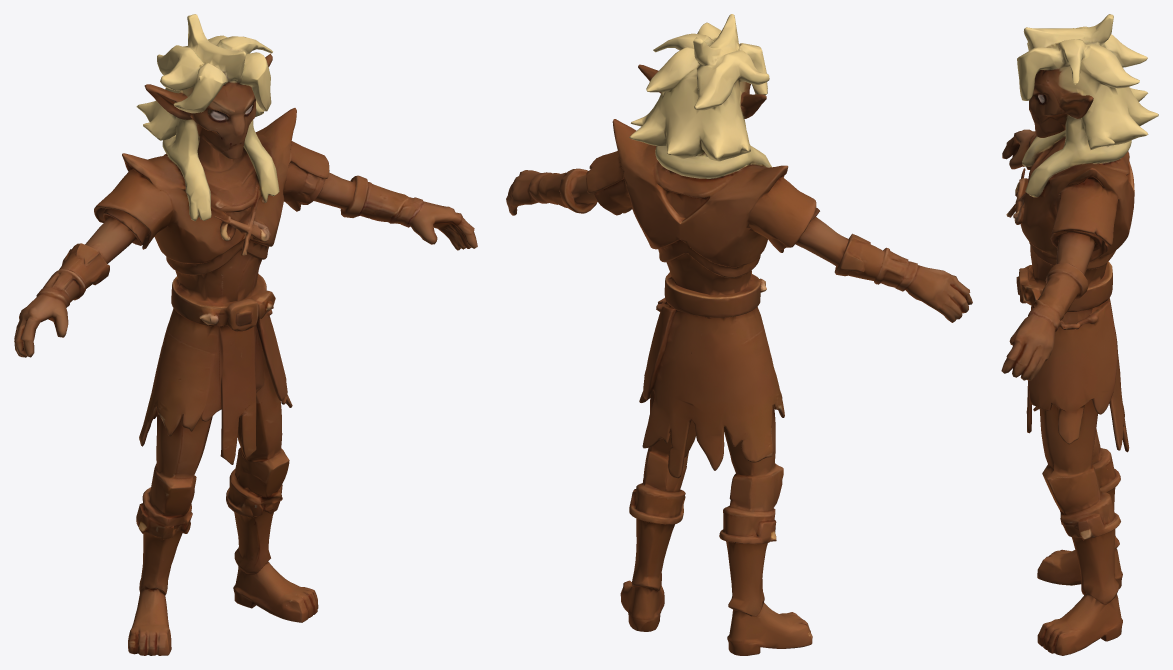
Rendered from boss_albasti.glb.
The picture shows the model from 3 angles, left to right: view 1: azimuth 30°, elevation 25°; view 2: azimuth 150°, elevation 25°; view 3: azimuth 270°, elevation 25°; orthographic projection.
Parts seen in each view (by area): view 1: tripo_node_083a2217-3fff-4ec9-b7ef-5813db4b52ab; view 2: tripo_node_083a2217-3fff-4ec9-b7ef-5813db4b52ab; view 3: tripo_node_083a2217-3fff-4ec9-b7ef-5813db4b52ab.
Part boxes in pixels (<box>): tripo_node_083a2217-3fff-4ec9-b7ef-5813db4b52ab: <box>14,14,477,655</box>; tripo_node_083a2217-3fff-4ec9-b7ef-5813db4b52ab: <box>506,14,972,655</box>; tripo_node_083a2217-3fff-4ec9-b7ef-5813db4b52ab: <box>1001,14,1158,655</box>.
Bounding box in the file's own units: 0.7934 × 1 × 0.2402.
Materials: 1 (1 with a texture image).
